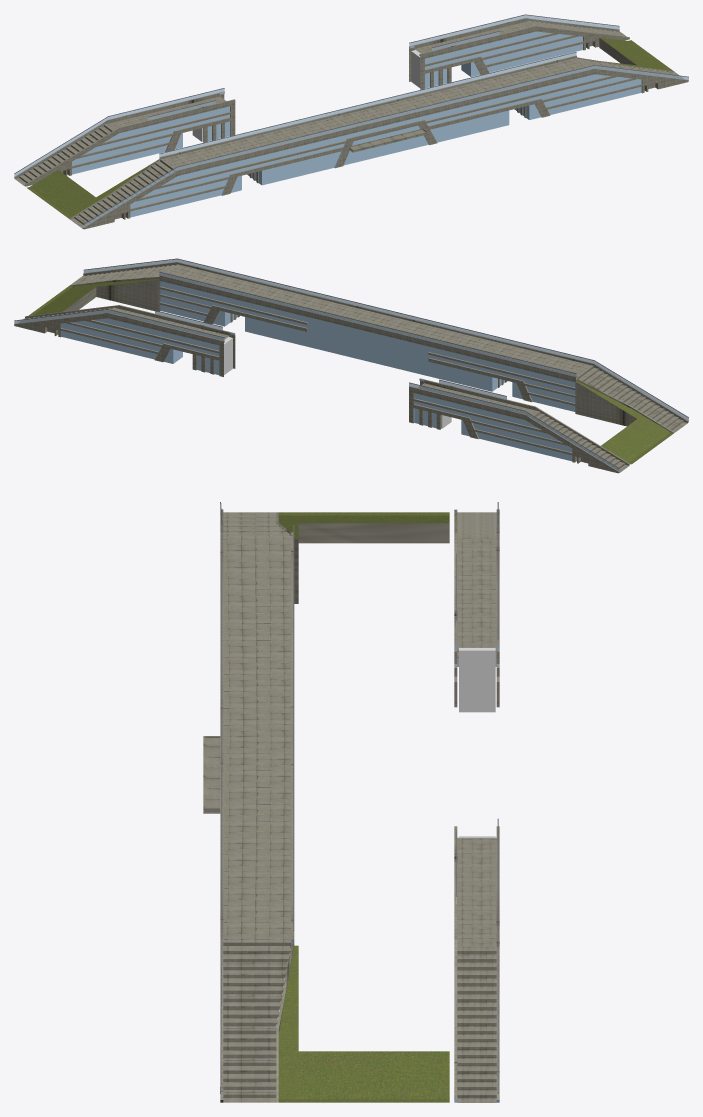
Rendered from building2.glb.
3 views of the same model, one above another, from view 1: azimuth 30°, elevation 25°; view 2: azimuth 150°, elevation 25°; view 3: azimuth 270°, elevation 25° (orthographic). The views are drawn at different scales.
Parts seen in each view (by area): view 1: 立方体.397, 立方体.003, 立方体.5468, 立方体.2105, 立方体.5360, 立方体.5359, 立方体.5467, 立方体.1012, 立方体.5361, 平面.001, 平面, 立方体.2117 (+8 smaller); view 2: 立方体.397, 立方体.003, 立方体.5467, 立方体.1012, 立方体.5360, 立方体.5361, 立方体.5359, 立方体.5468, 立方体.2105, 平面.001, 平面, 立方体.2117 (+6 smaller); view 3: 立方体.003, 立方体.397, 立方体.5361, 立方体.533, 立方体.5474, 立方体.5360, 立方体.5467, 立方体.5468, 立方体.1012, 立方体.2105, 后方-内墙-右, 立方体.1323 (+2 smaller).
Boxes of the visible parts, x1=… form: 立方体.397: x1=83, y1=106, x2=386, y2=229; 立方体.003: x1=368, y1=55, x2=688, y2=154; 立方体.5468: x1=419, y1=25, x2=629, y2=89; 立方体.2105: x1=25, y1=99, x2=235, y2=186; 立方体.5360: x1=27, y1=159, x2=159, y2=219; 立方体.5359: x1=70, y1=161, x2=173, y2=228; 立方体.5467: x1=409, y1=18, x2=619, y2=81; 立方体.1012: x1=14, y1=91, x2=224, y2=178; 立方体.5361: x1=577, y1=37, x2=674, y2=72; 平面.001: x1=83, y1=116, x2=385, y2=227; 平面: x1=386, y1=65, x2=688, y2=119; 立方体.2117: x1=15, y1=123, x2=115, y2=186; 立方体.397: x1=368, y1=313, x2=688, y2=422; 立方体.003: x1=83, y1=262, x2=385, y2=361; 立方体.5467: x1=14, y1=312, x2=224, y2=376; 立方体.1012: x1=409, y1=386, x2=619, y2=473; 立方体.5360: x1=575, y1=378, x2=674, y2=464; 立方体.5361: x1=28, y1=277, x2=160, y2=315; 立方体.5359: x1=579, y1=367, x2=687, y2=432; 立方体.5468: x1=25, y1=305, x2=235, y2=368; 立方体.2105: x1=419, y1=378, x2=629, y2=465; 平面.001: x1=386, y1=309, x2=688, y2=420; 平面: x1=83, y1=258, x2=385, y2=312; 立方体.2117: x1=528, y1=410, x2=628, y2=472; 立方体.003: x1=220, y1=735, x2=294, y2=1102; 立方体.397: x1=220, y1=509, x2=293, y2=739; 立方体.5361: x1=276, y1=942, x2=449, y2=1102; 立方体.533: x1=223, y1=946, x2=290, y2=1102; 立方体.5474: x1=457, y1=946, x2=496, y2=1102; 立方体.5360: x1=276, y1=512, x2=449, y2=603; 立方体.5467: x1=477, y1=826, x2=499, y2=1102; 立方体.5468: x1=454, y1=826, x2=476, y2=1102; 立方体.1012: x1=477, y1=509, x2=499, y2=707; 立方体.2105: x1=454, y1=509, x2=476, y2=707; 后方-内墙-右: x1=459, y1=648, x2=495, y2=712; 立方体.1323: x1=203, y1=736, x2=220, y2=813.
Bounding box in the file's own units: 10.2 × 0.6419 × 2.16.
Materials: 6 (2 with a texture image).
